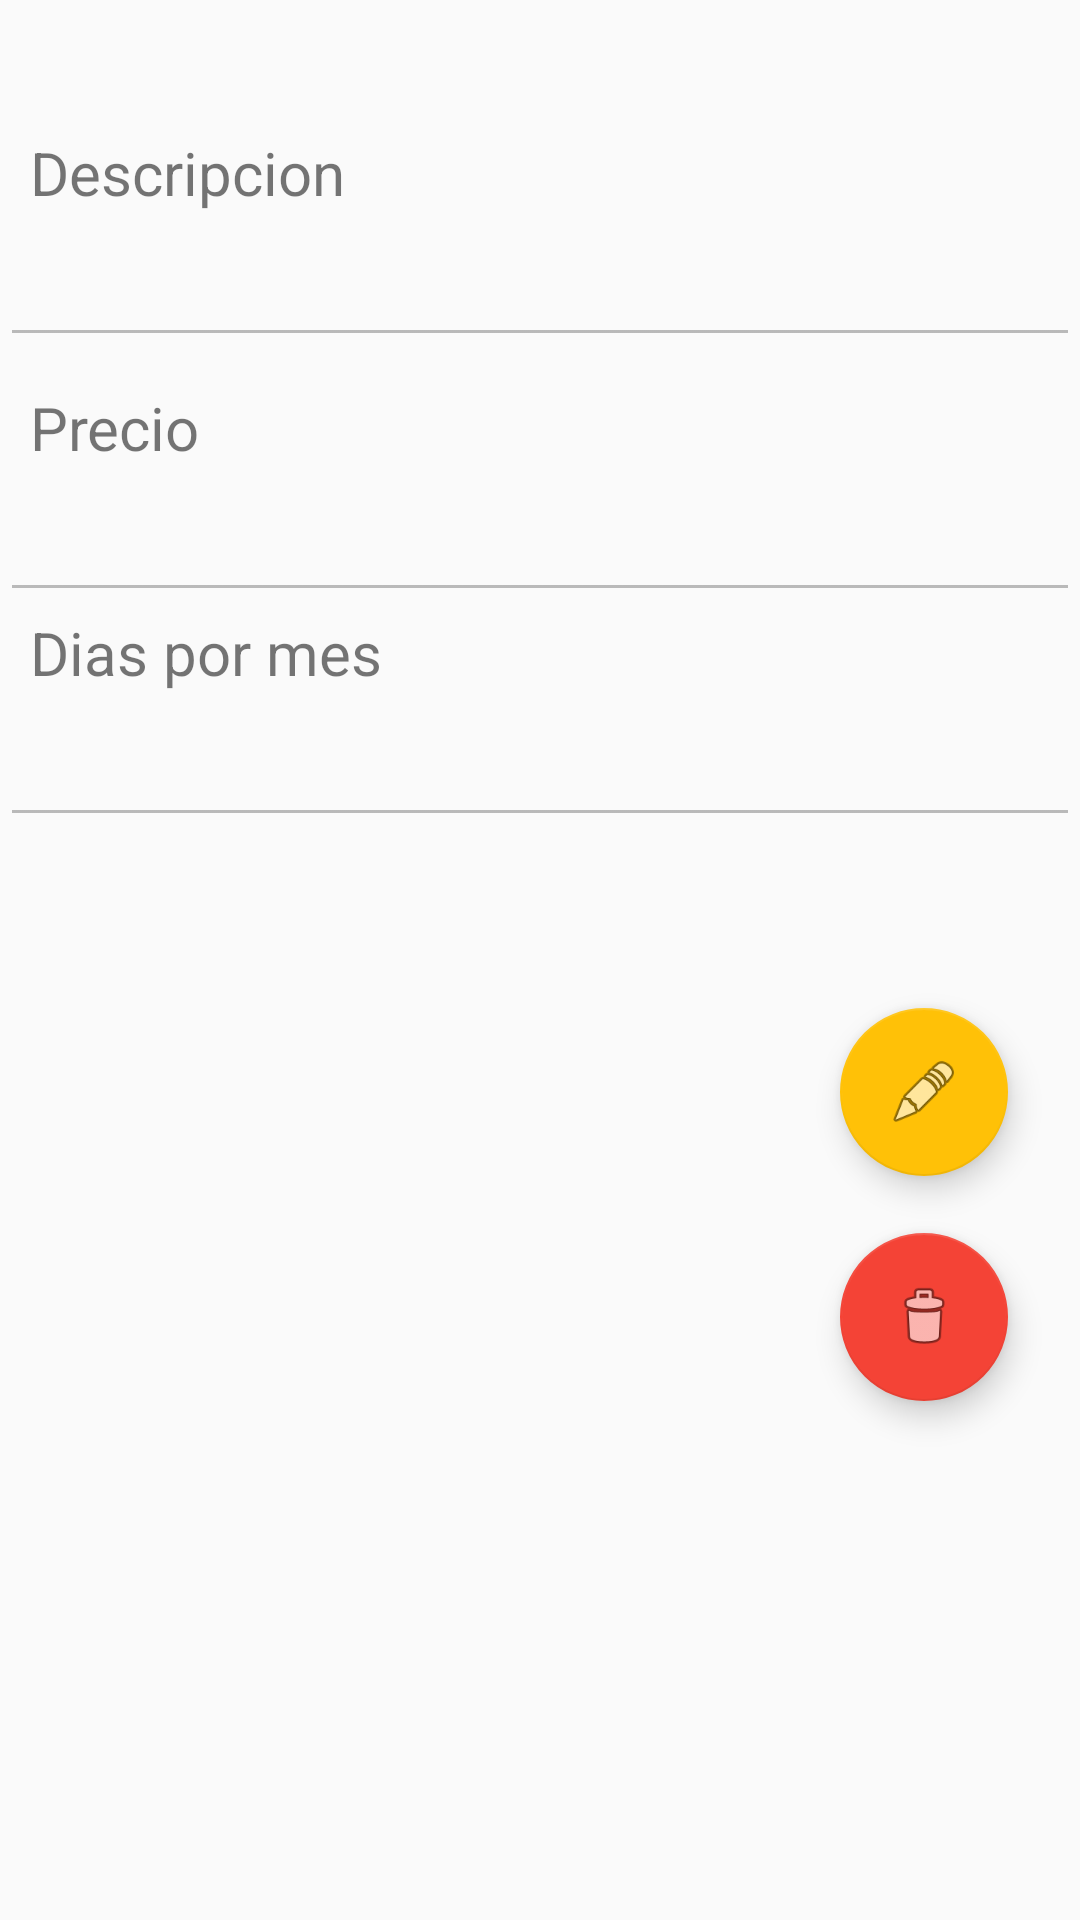

Locate icon controls on the screen. Image size 1080x1920, boxes as (x1, y1, x2, y2).
delete: (840, 1233, 1008, 1401)
edit: (840, 1008, 1008, 1176)
